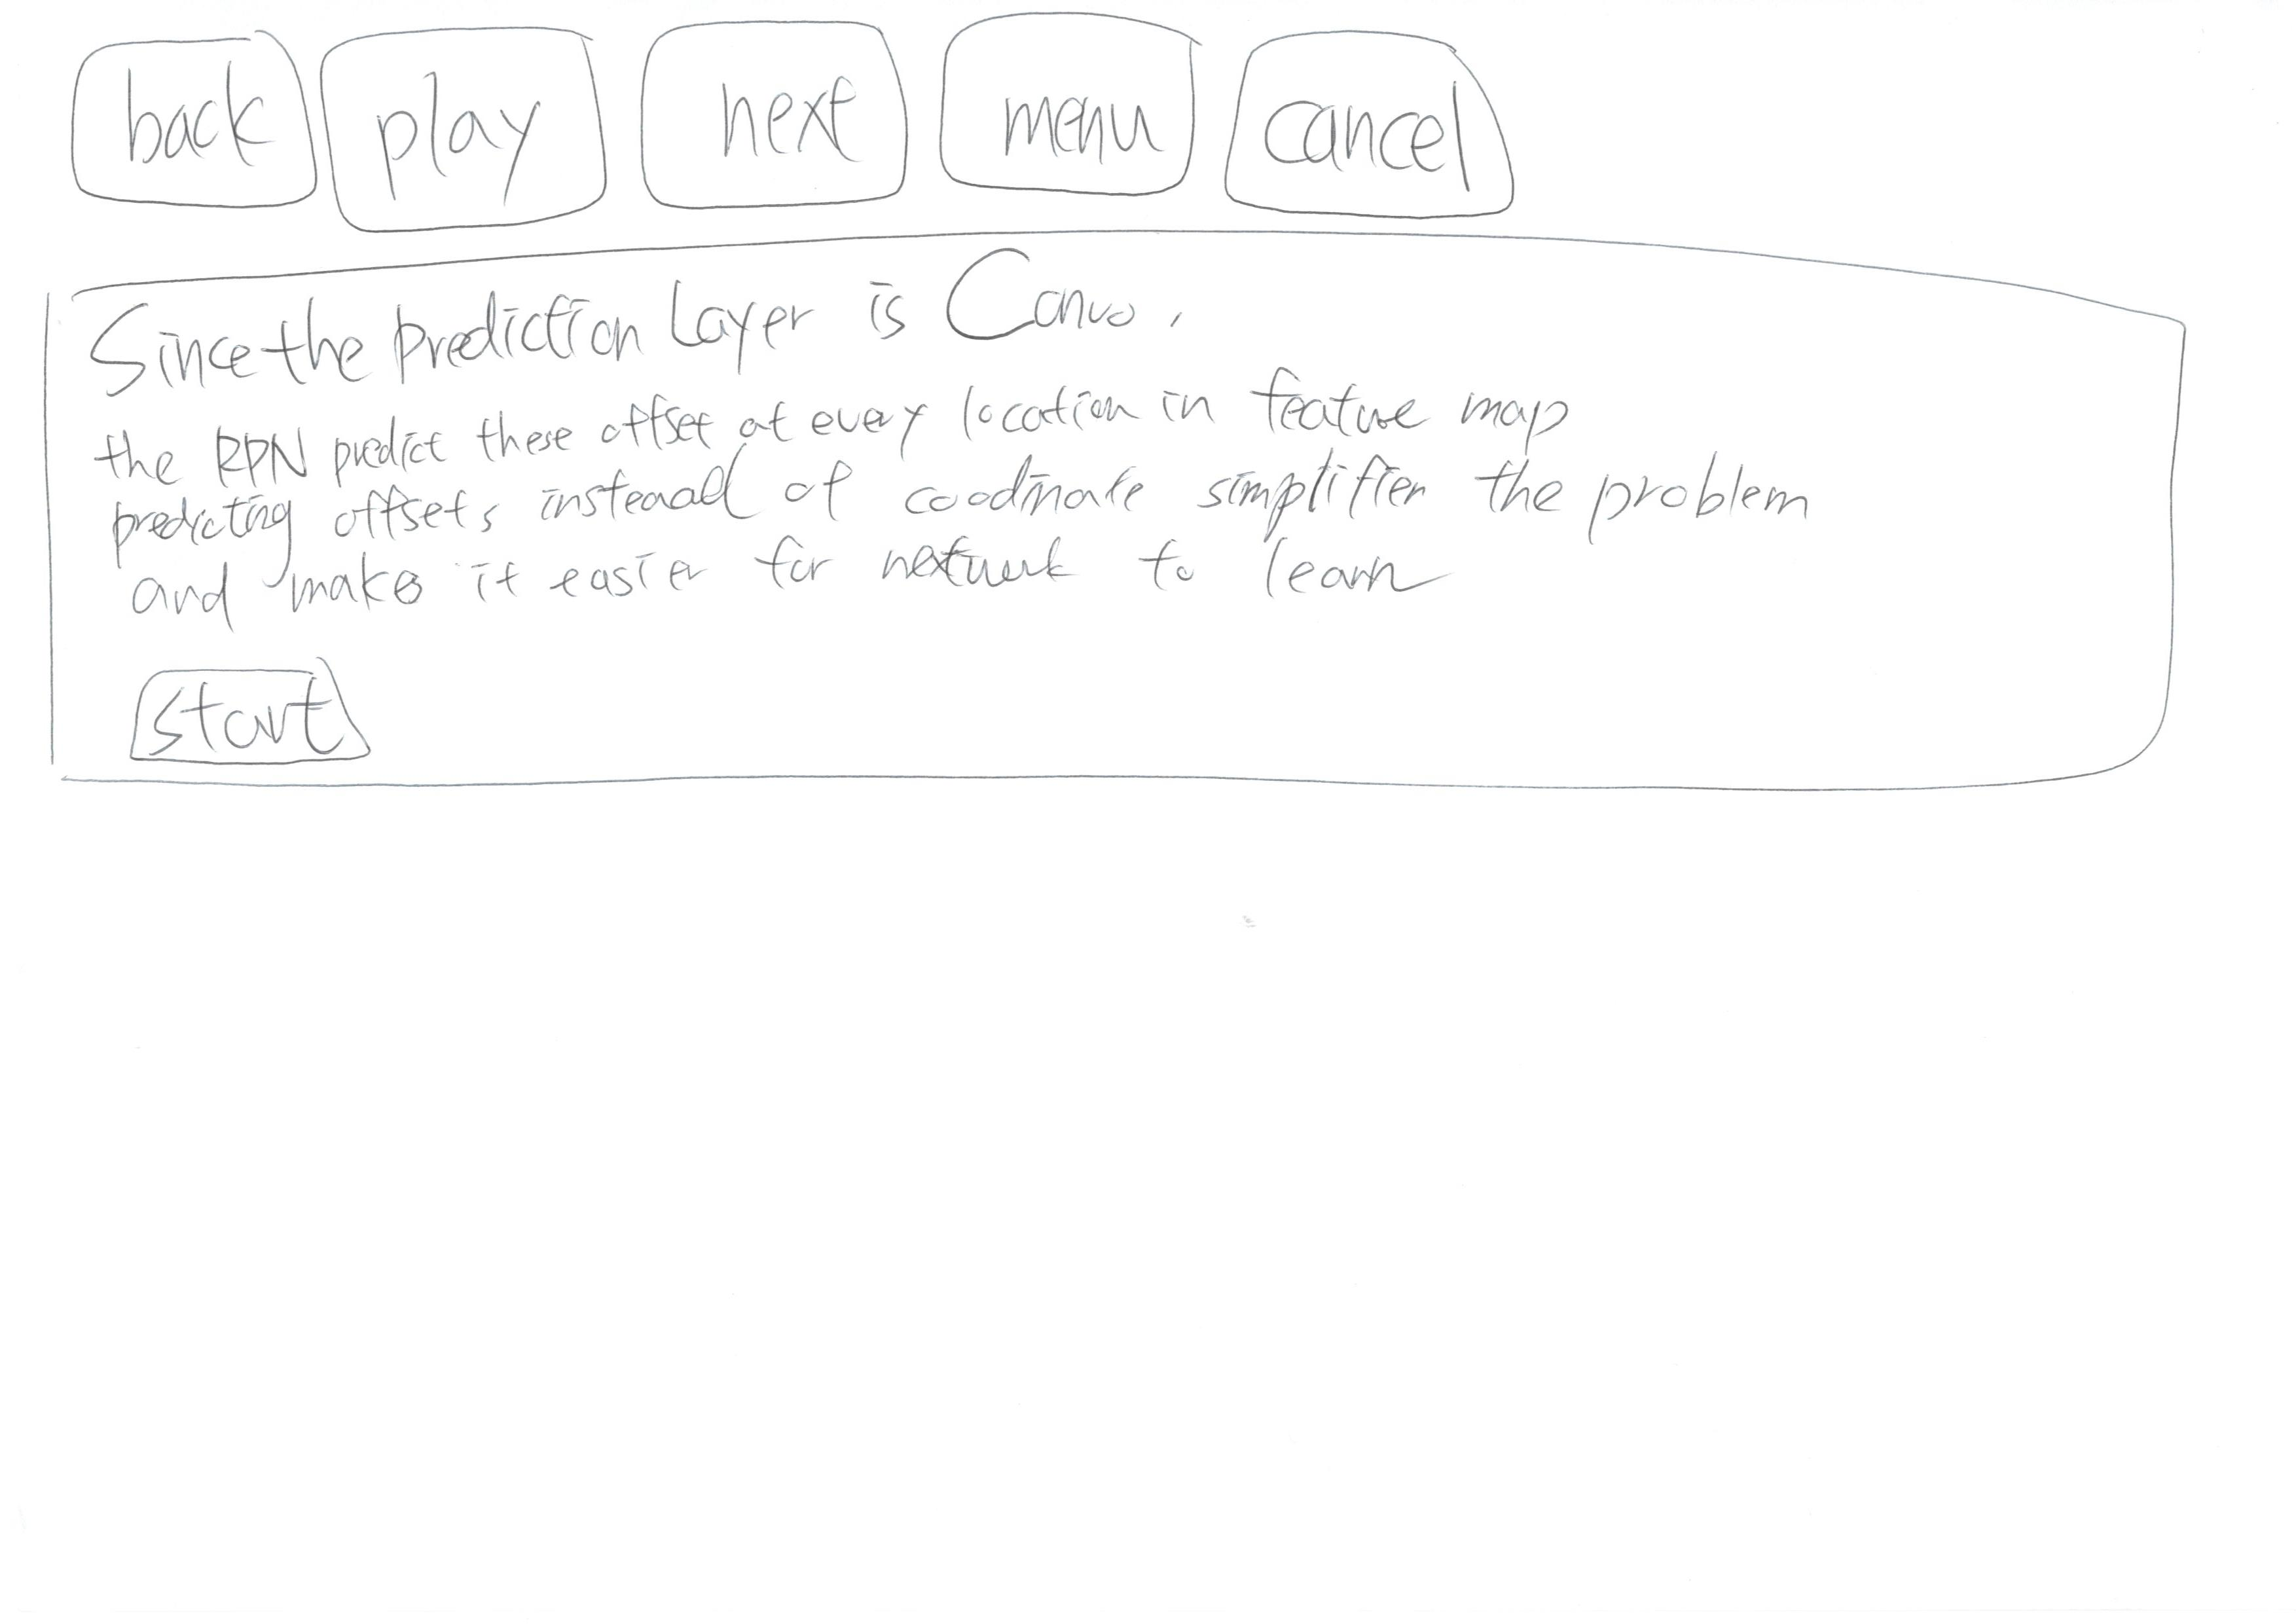back: (40, 12, 331, 250)
cancel: (1210, 7, 1540, 225)
menu: (921, 9, 1211, 207)
next: (610, 0, 934, 230)
play: (309, 5, 633, 250)
row: (14, 234, 2296, 898), (14, 0, 2296, 278)
single: (9, 239, 2252, 870)
small-title: (84, 285, 1160, 387)
start: (114, 633, 401, 777)
text: (97, 390, 1849, 622)
